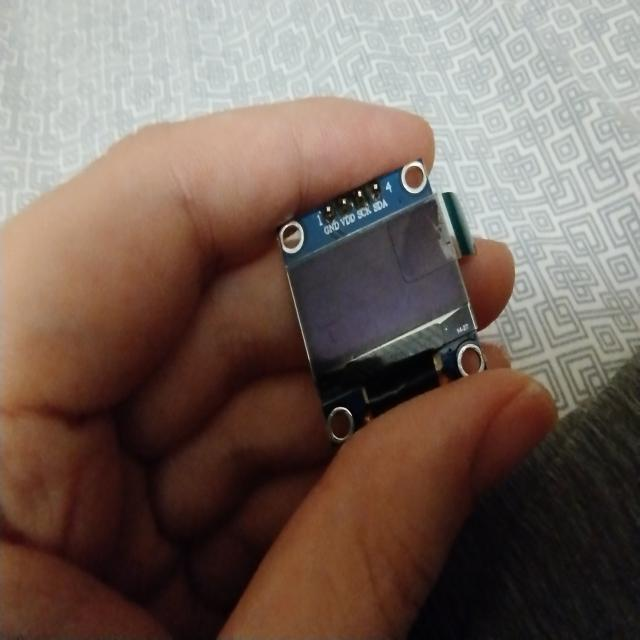oled: (278, 150, 498, 453)
